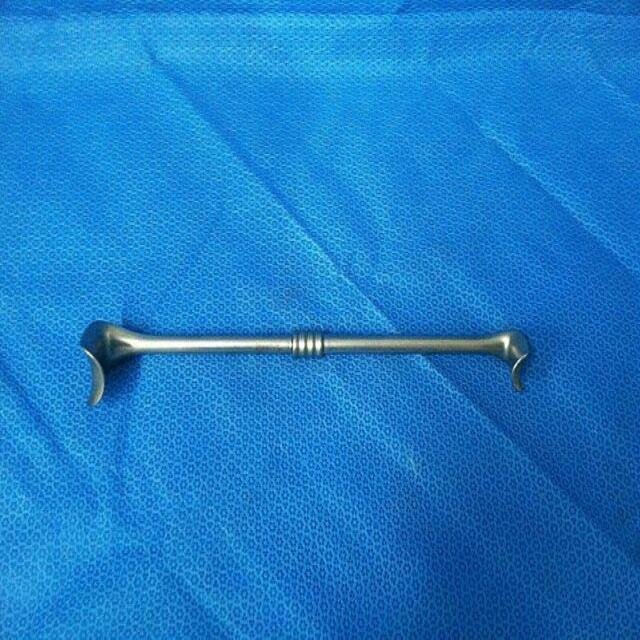Richardson: (77, 310, 538, 420)
